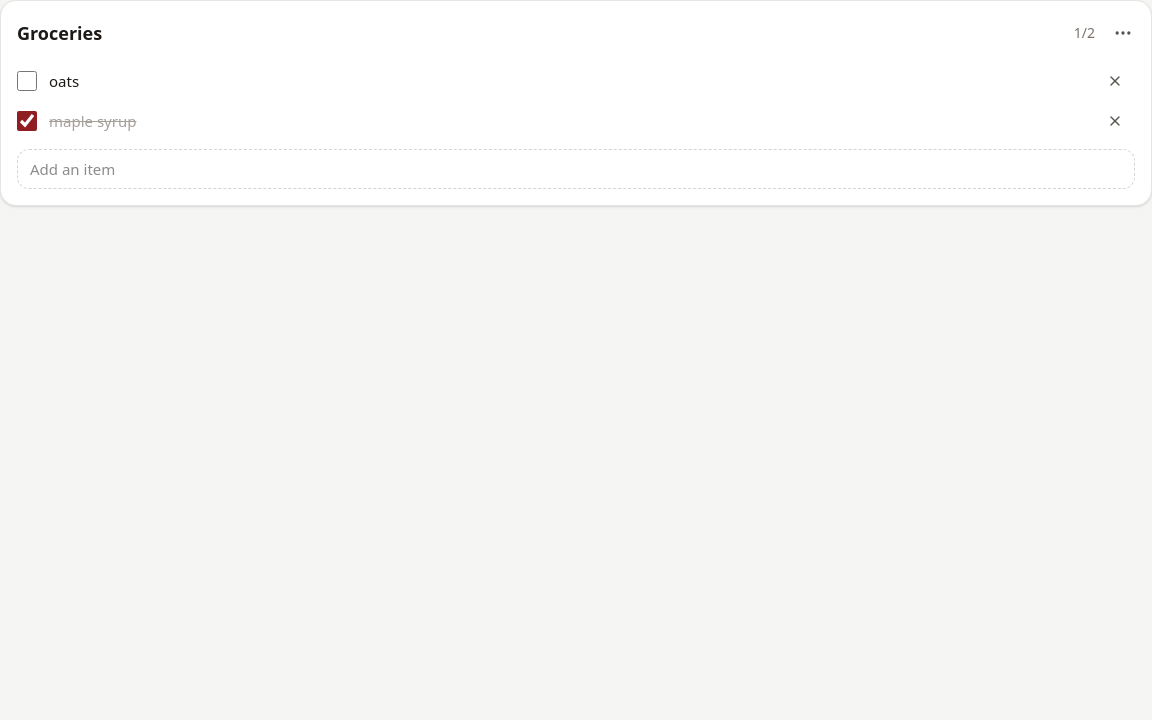
TodoCard › says why a change could not be saved when the storage is full
The width and height of the screenshot is (1152, 720).
Type "blueberries" into the field named "Add an item to Groceries" at (576, 169), box [17, 149, 1135, 189]
Then press Enter
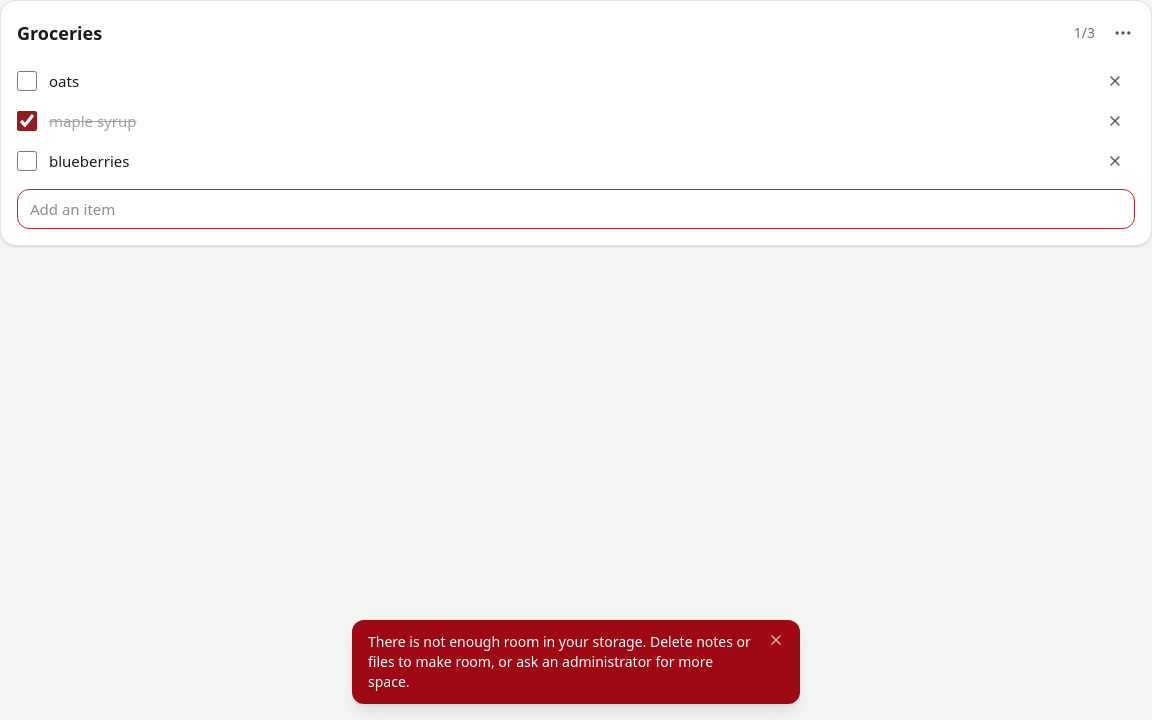
Expected: the text "There is not enough room in your storage. Delete notes or files to make room, or ask an administrator for more space." is shown, [368, 632, 751, 691]
